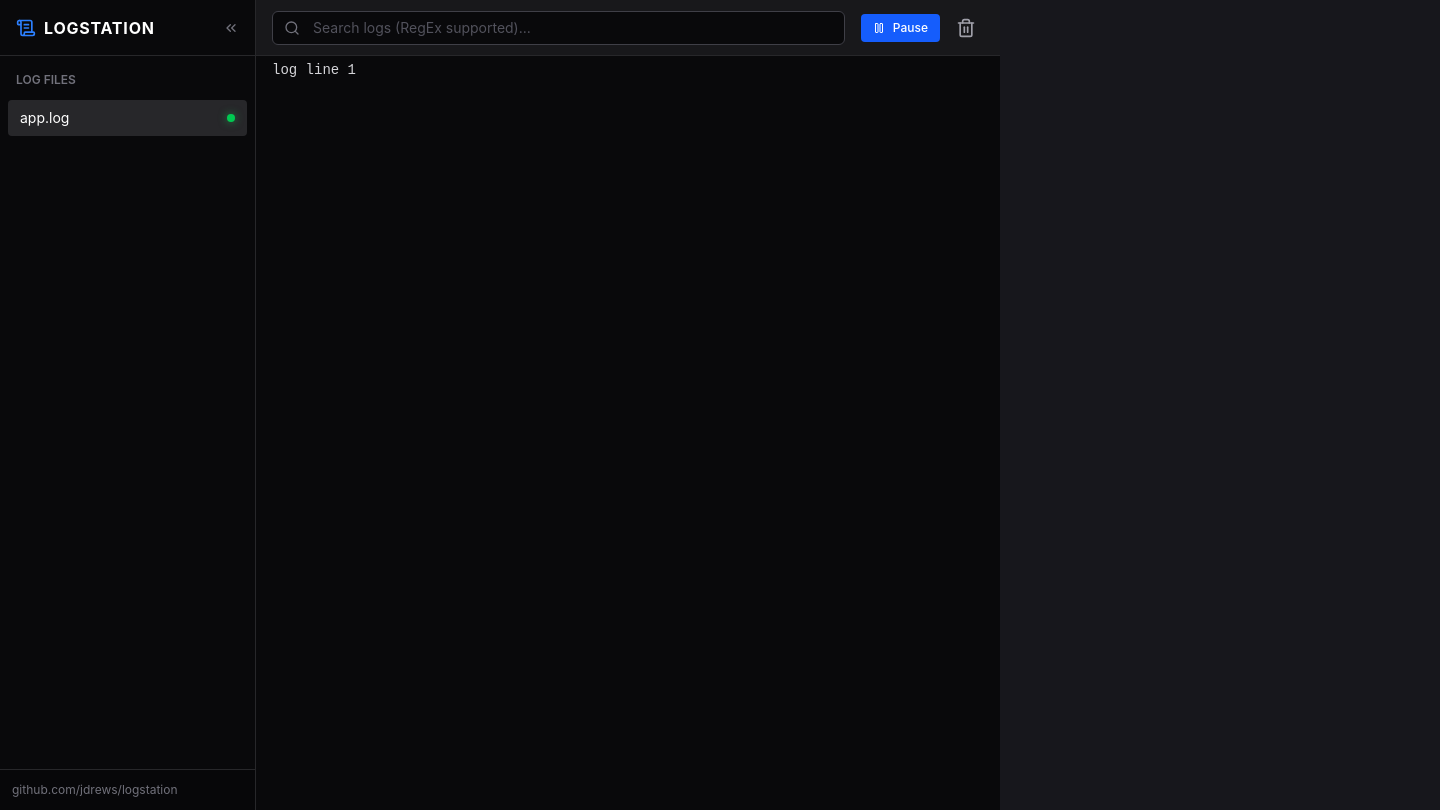
Test: MainLayout › controls › toggles between pause and resume
Click the button titled "Pause Tailing".
click(900, 28)  # box [861,14,940,42]
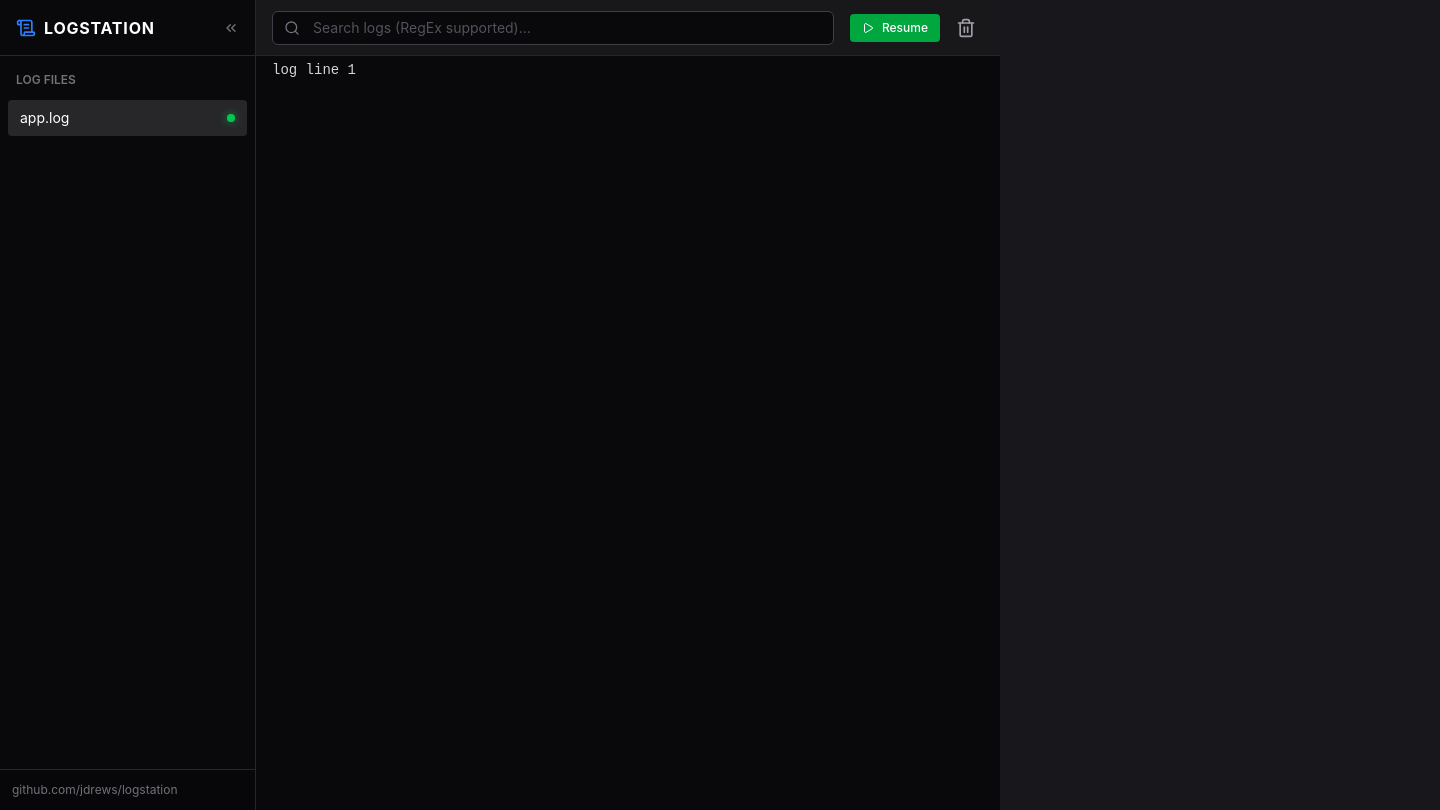
expect the button titled "Resume Tailing" is shown: met
expect the text "Resume" is shown: met, box [882,20,928,36]
Click the button titled "Resume Tailing".
click(895, 28)  # box [850,14,940,42]
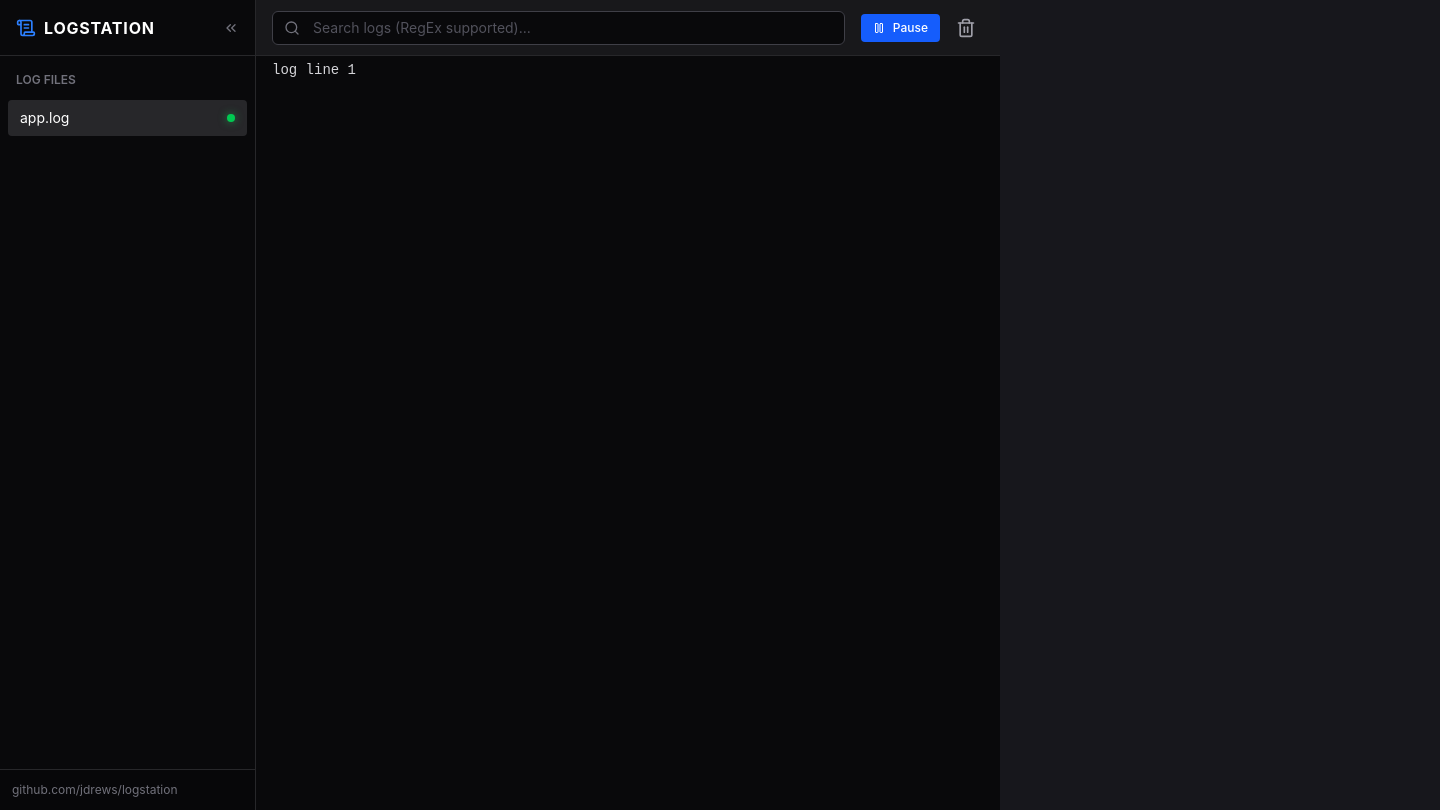
expect the button titled "Pause Tailing" is shown: met, box [861,14,940,42]
expect the text "Pause" is shown: met, box [893,20,928,36]
